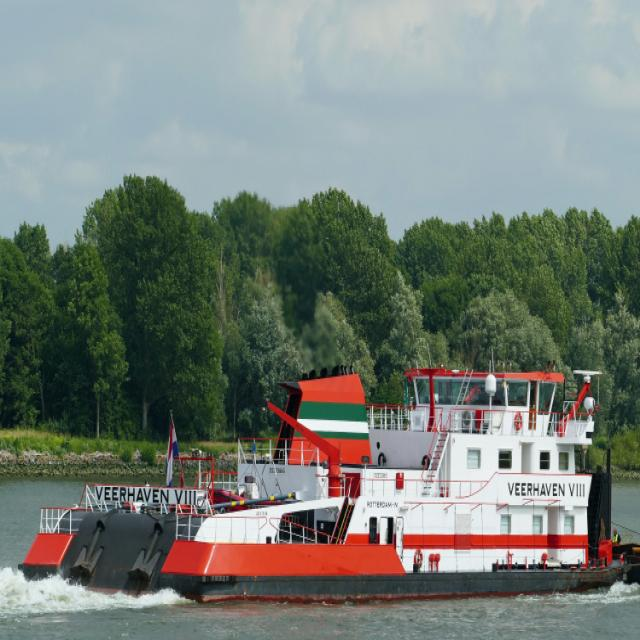tugboat: (16, 340, 640, 622)
